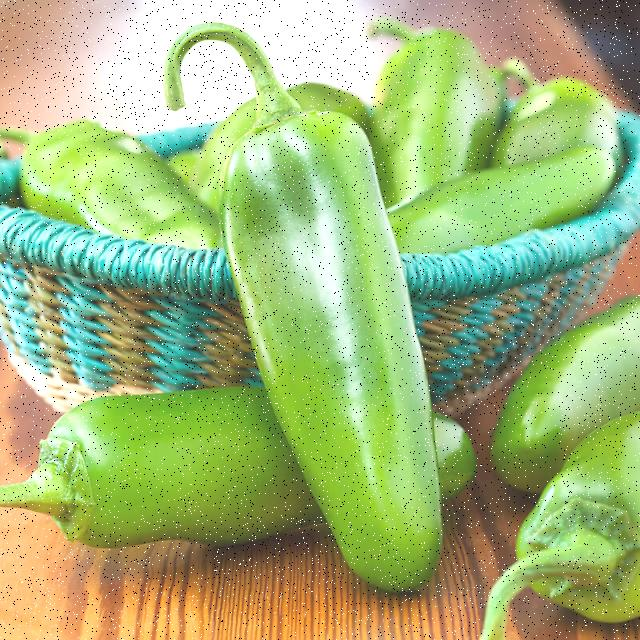Chili Pepper: (194, 23, 442, 592), (20, 18, 623, 252), (0, 388, 325, 549), (482, 412, 640, 640), (501, 287, 640, 422), (431, 412, 477, 504)
